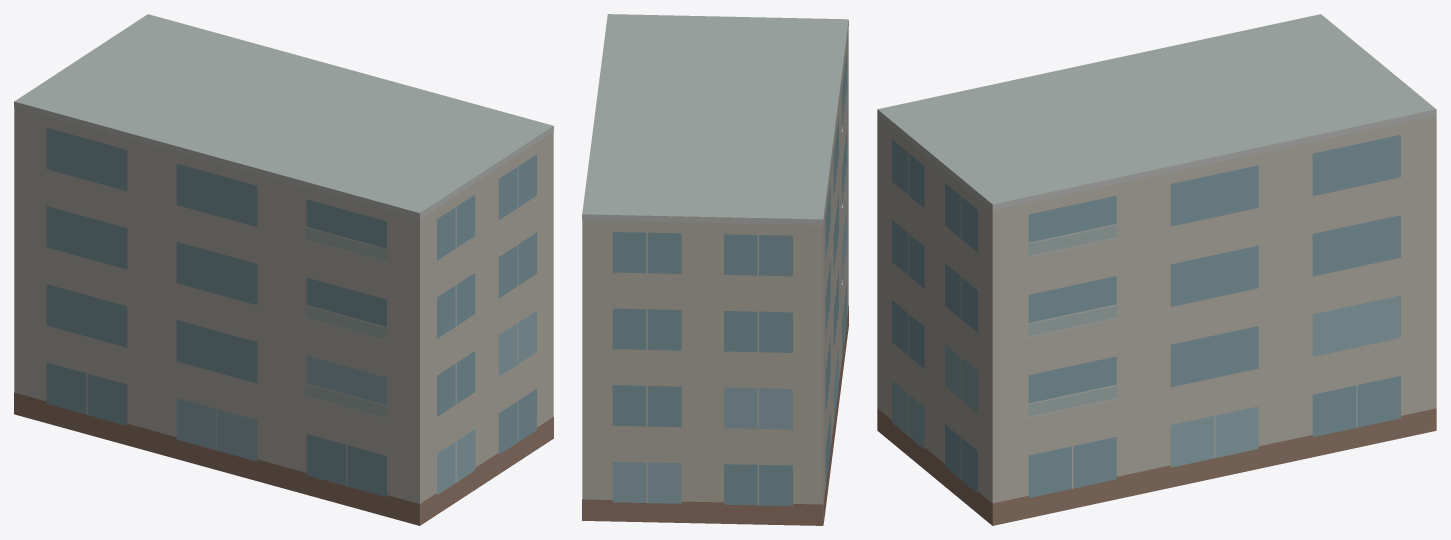
The model's file is survey-upis-32937882.glb.
3 views of the same model, side by side, from view 1: azimuth 30°, elevation 25°; view 2: azimuth 150°, elevation 25°; view 3: azimuth 270°, elevation 25° (orthographic). The views are drawn at different scales.
Parts seen in each view (by area): view 1: survey-upis-32937882.tmp; view 2: survey-upis-32937882.tmp; view 3: survey-upis-32937882.tmp.
Boxes of the visible parts, <box> form: survey-upis-32937882.tmp: <box>14,14,553,525</box>; survey-upis-32937882.tmp: <box>582,14,848,525</box>; survey-upis-32937882.tmp: <box>877,14,1436,525</box>.
Bounding box in the file's own units: 16.15 × 12.7 × 20.03.
